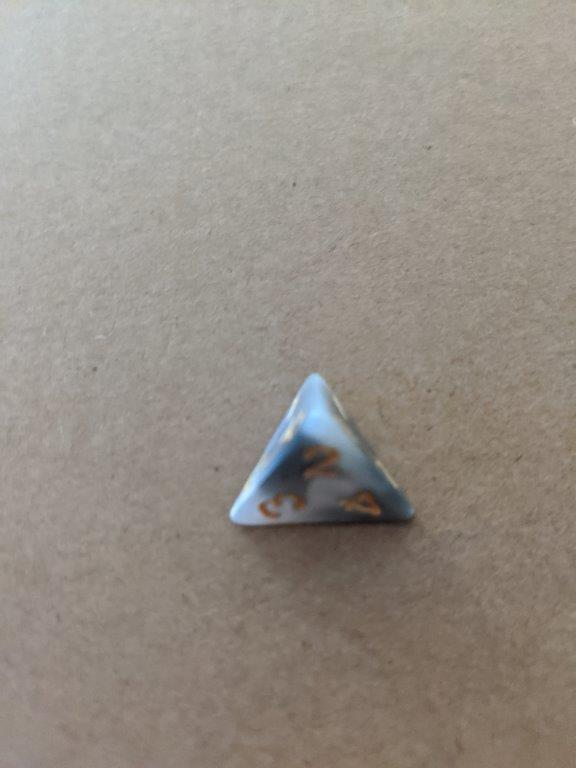d4-2: (227, 365, 414, 531)
